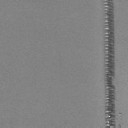slag inclusion: (105, 0, 116, 128)
